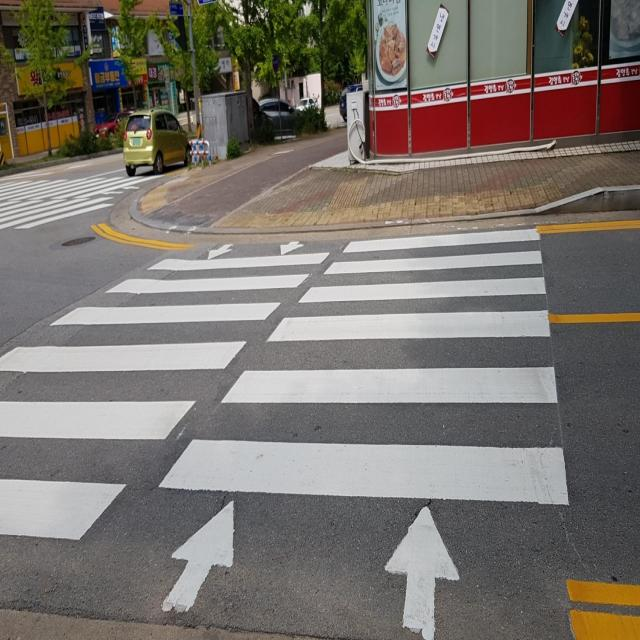횡단보도: (0, 226, 572, 640), (0, 173, 158, 229)
